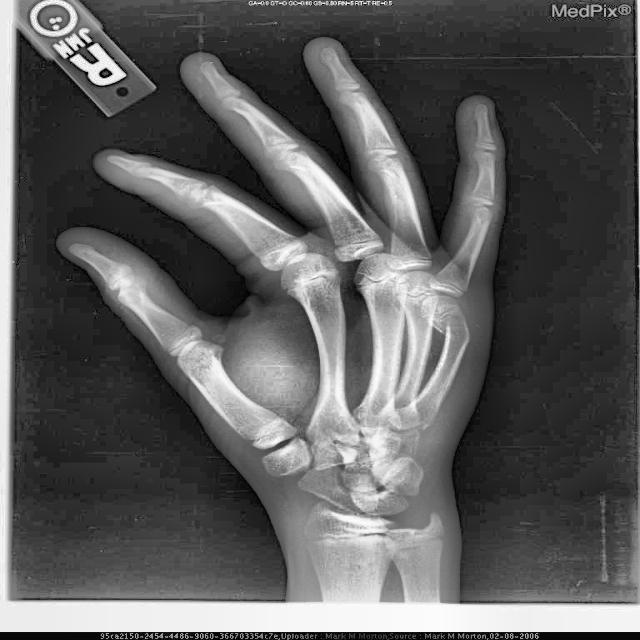fracture: (435, 322, 472, 342)
